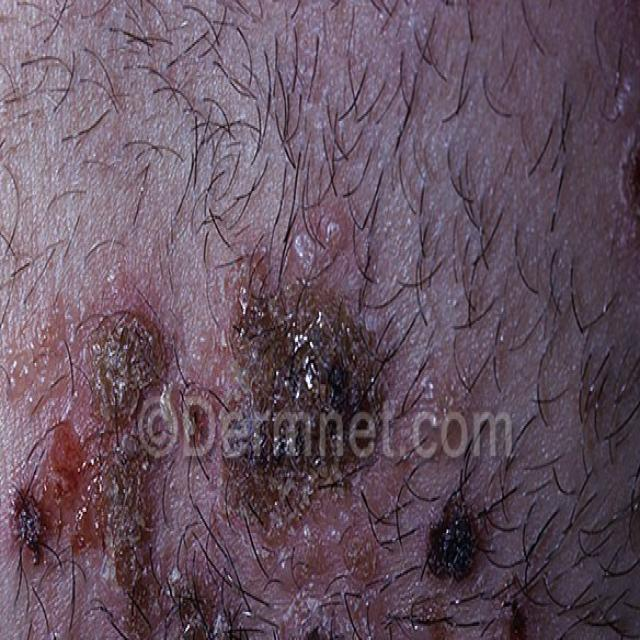Viral Infections: (2, 238, 571, 640), (590, 0, 640, 531)
